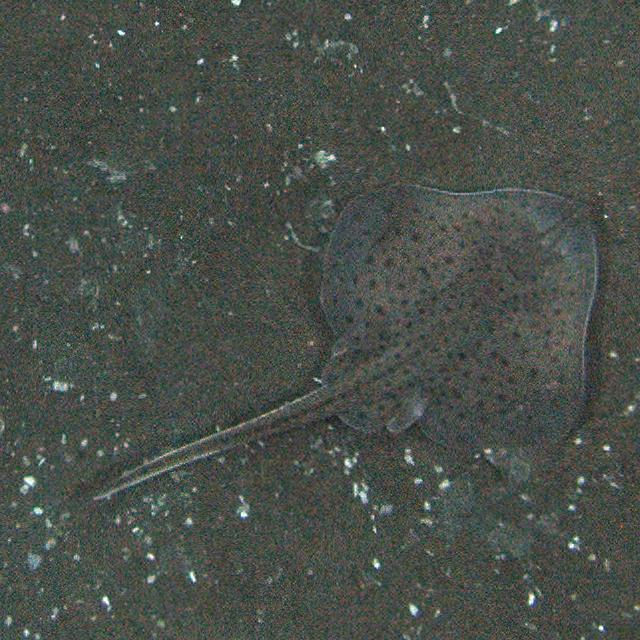skate: (86, 174, 599, 512)
